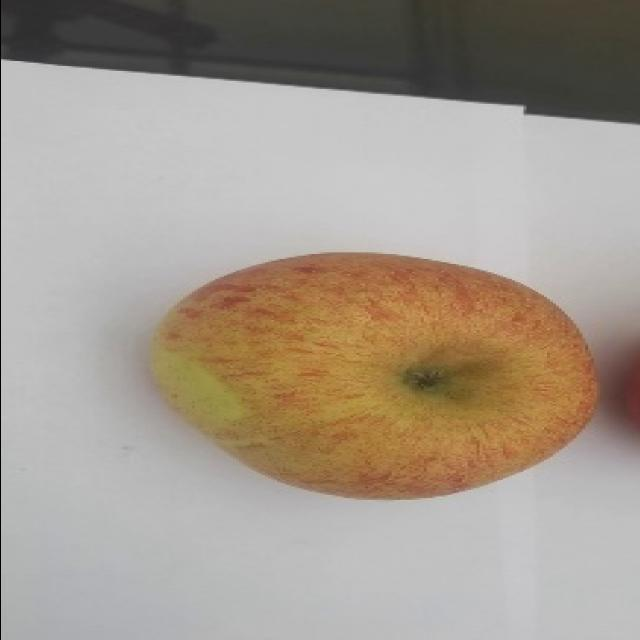Apple: (149, 250, 599, 500)
